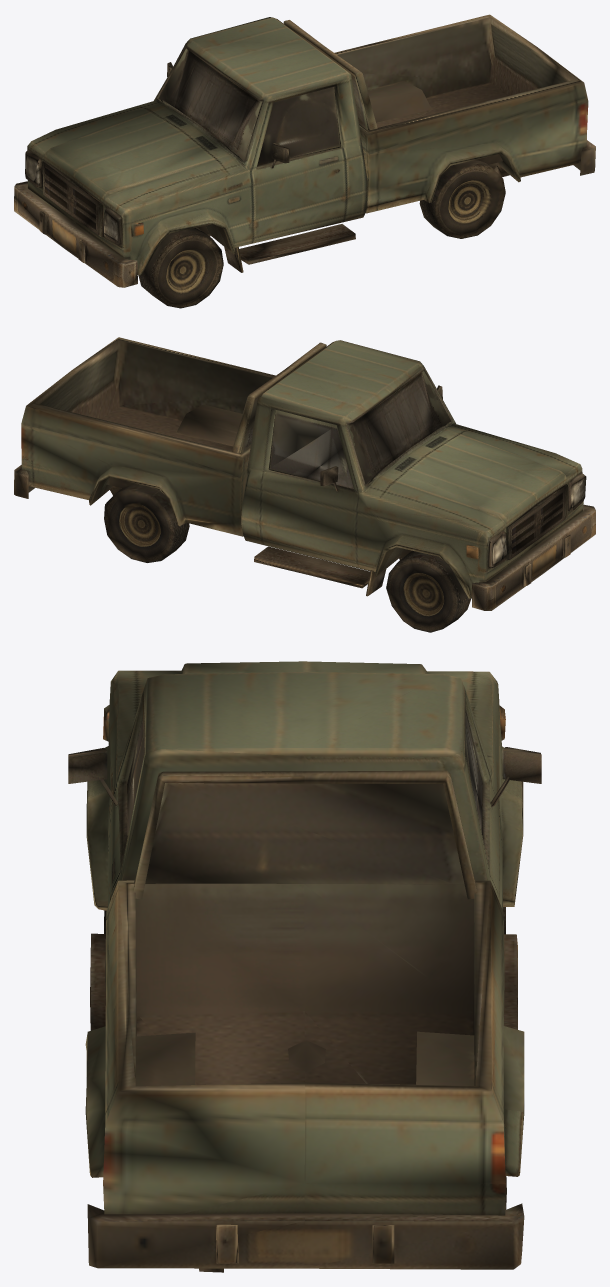
The model's file is Meshy_AI_Desert_Worn_Pickup_0831093533_texture.fbx.
The picture shows the model from 3 angles, top to bottom: view 1: azimuth 30°, elevation 25°; view 2: azimuth 150°, elevation 25°; view 3: azimuth 270°, elevation 25°; orthographic projection. The views are drawn at different scales.
Visible parts, largest first — view 1: mesh_node; view 2: mesh_node; view 3: mesh_node.
Part boxes in pixels (x1=…): mesh_node: x1=14, y1=14, x2=595, y2=308; mesh_node: x1=14, y1=337, x2=595, y2=632; mesh_node: x1=68, y1=661, x2=541, y2=1272.
Size of the model in its own units: 100 by 36.72 by 42.48.
1 material, 1 textured.
